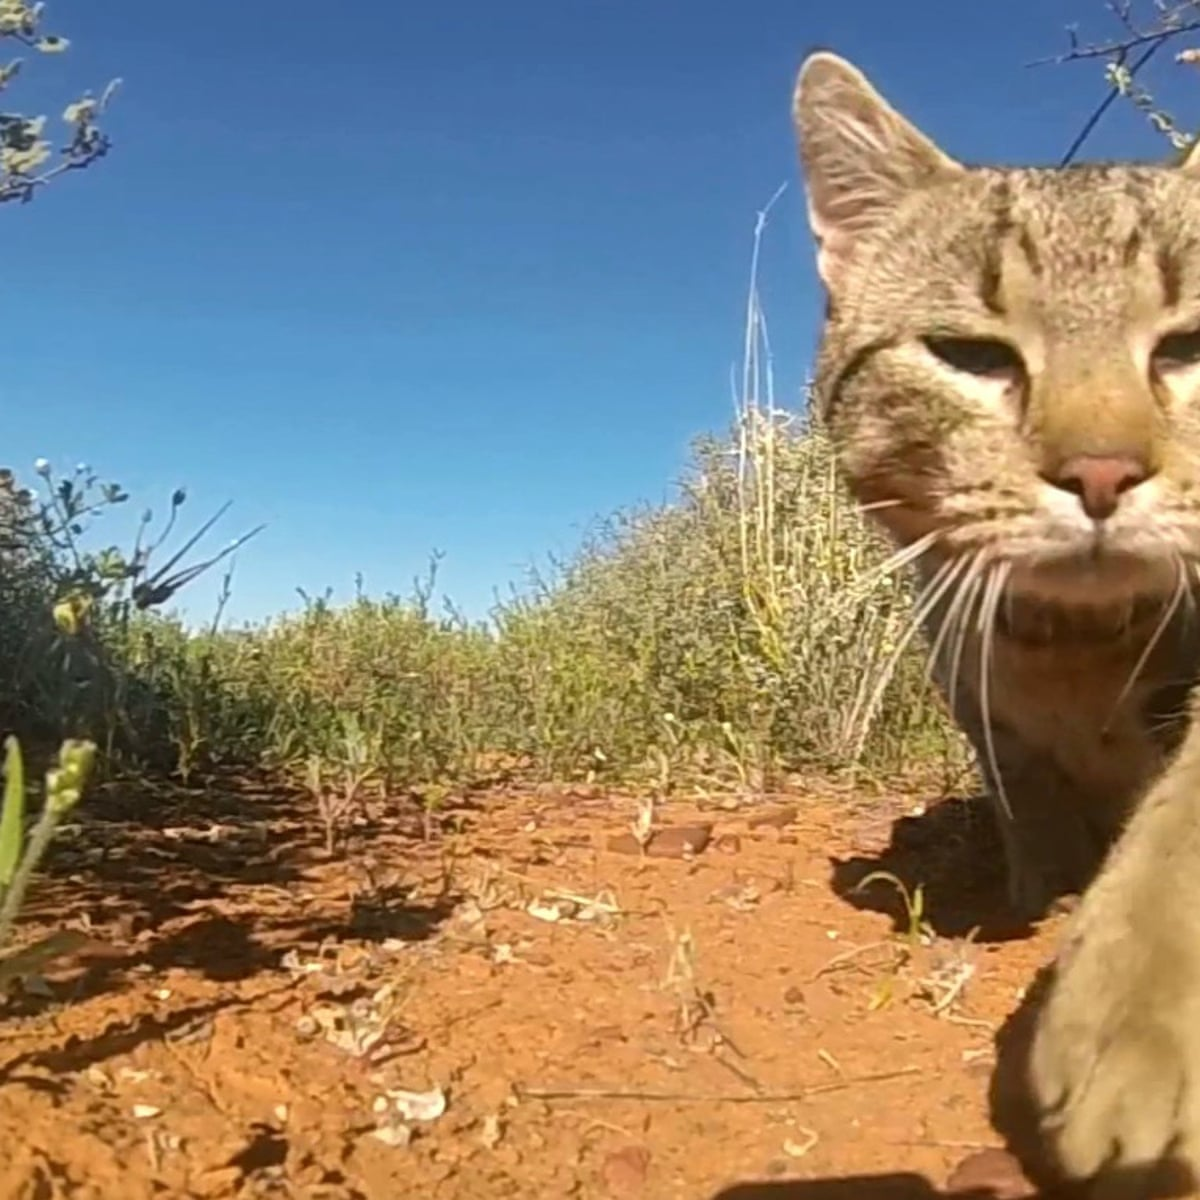Cat: (779, 18, 1200, 1195)
